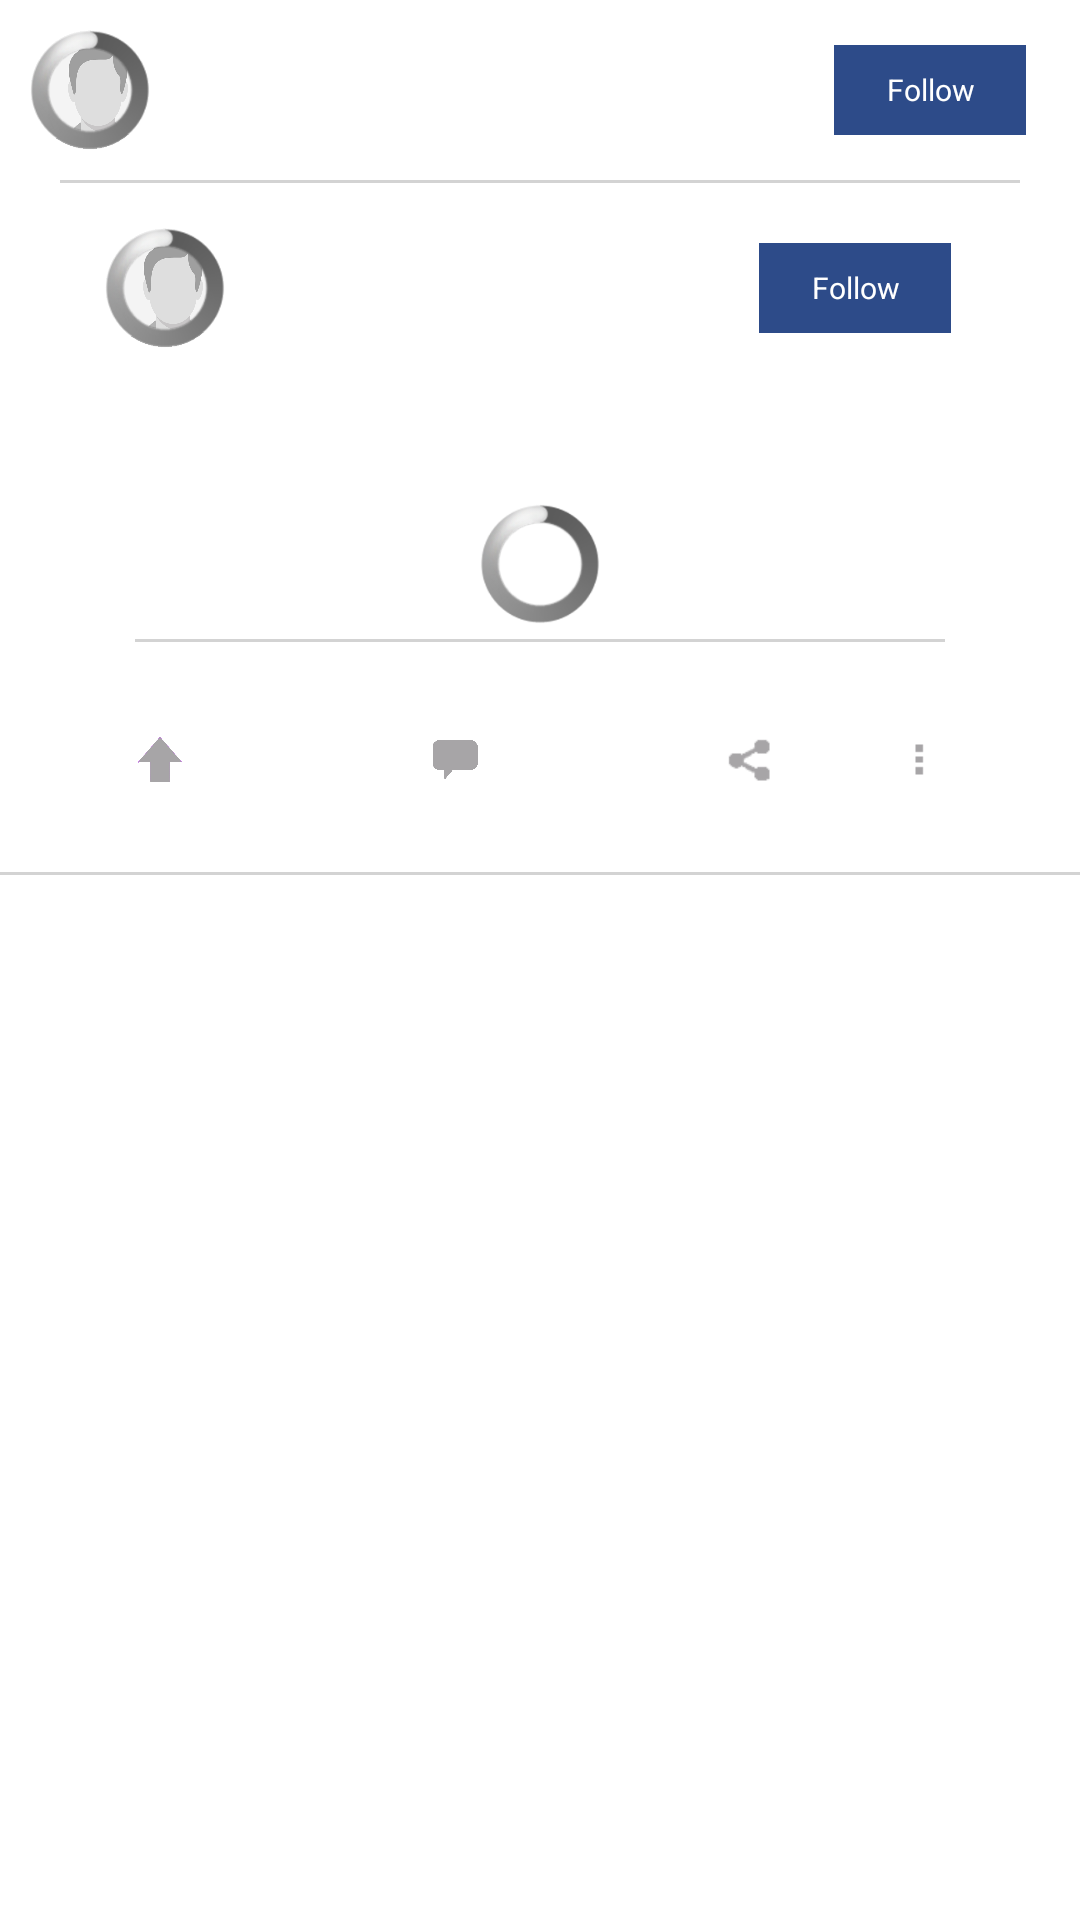

Icon click points for this 1080px x 1920px phone screenshot, format (x,y):
dot menu: (919,759)
share: (749,760)
up arrow: (160,759)
